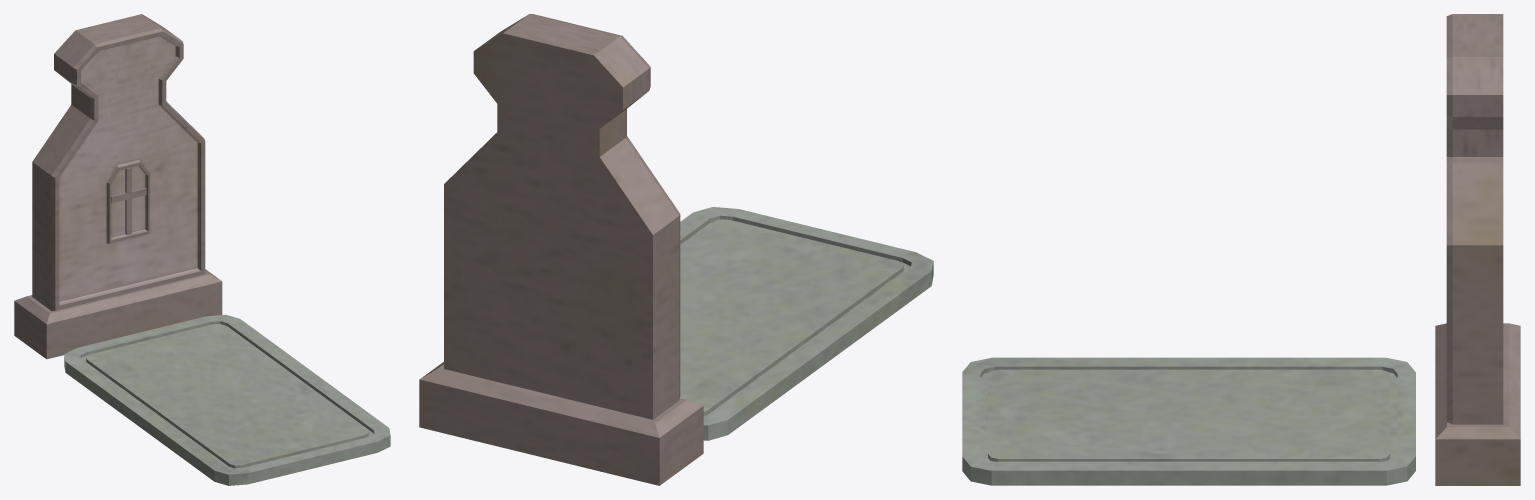
Rendered from gg_GraveStone_02.FBX.
The picture shows the model from 3 angles, left to right: view 1: azimuth 30°, elevation 25°; view 2: azimuth 150°, elevation 25°; view 3: azimuth 270°, elevation 25°; orthographic projection. The views are drawn at different scales.
Visible parts, largest first — view 1: gg_GraveStone_02, Grave; view 2: gg_GraveStone_02, Grave; view 3: Grave, gg_GraveStone_02.
Boxes of the visible parts, bbox=[...] form: gg_GraveStone_02: bbox=[14, 14, 222, 359]; Grave: bbox=[64, 314, 390, 485]; gg_GraveStone_02: bbox=[419, 14, 703, 485]; Grave: bbox=[680, 207, 933, 440]; Grave: bbox=[962, 357, 1415, 485]; gg_GraveStone_02: bbox=[1435, 14, 1520, 485].
Size of the model in its own units: 53.47 by 86.37 by 111.
2 materials, 2 textured.
